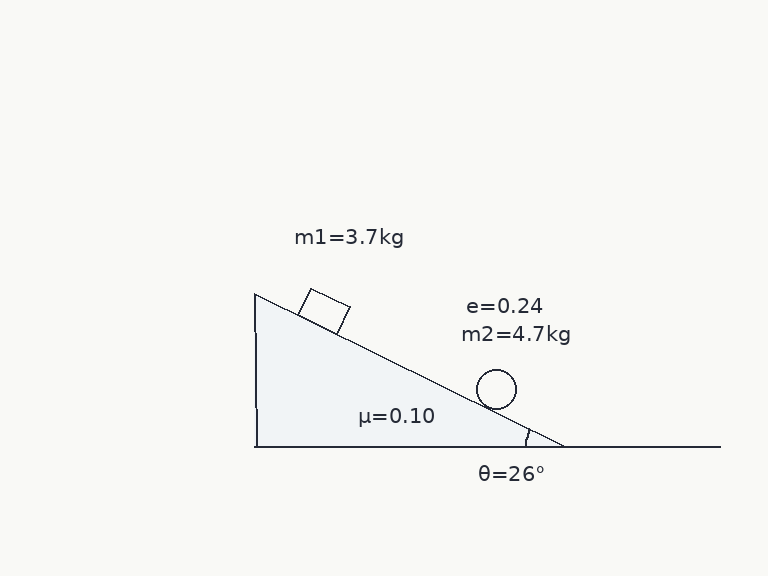ball: (474, 367, 518, 411)
block: (296, 286, 351, 336)
ramp: (252, 292, 568, 448)
